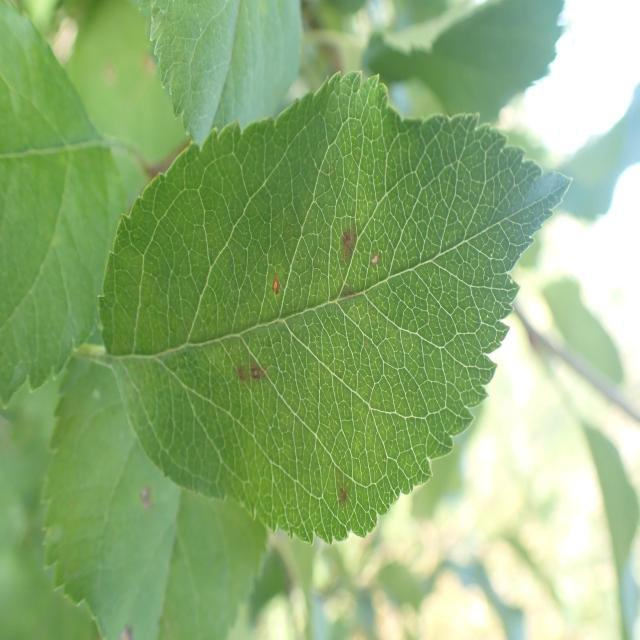frog-eye-leaf-spot: (97, 68, 574, 546)
